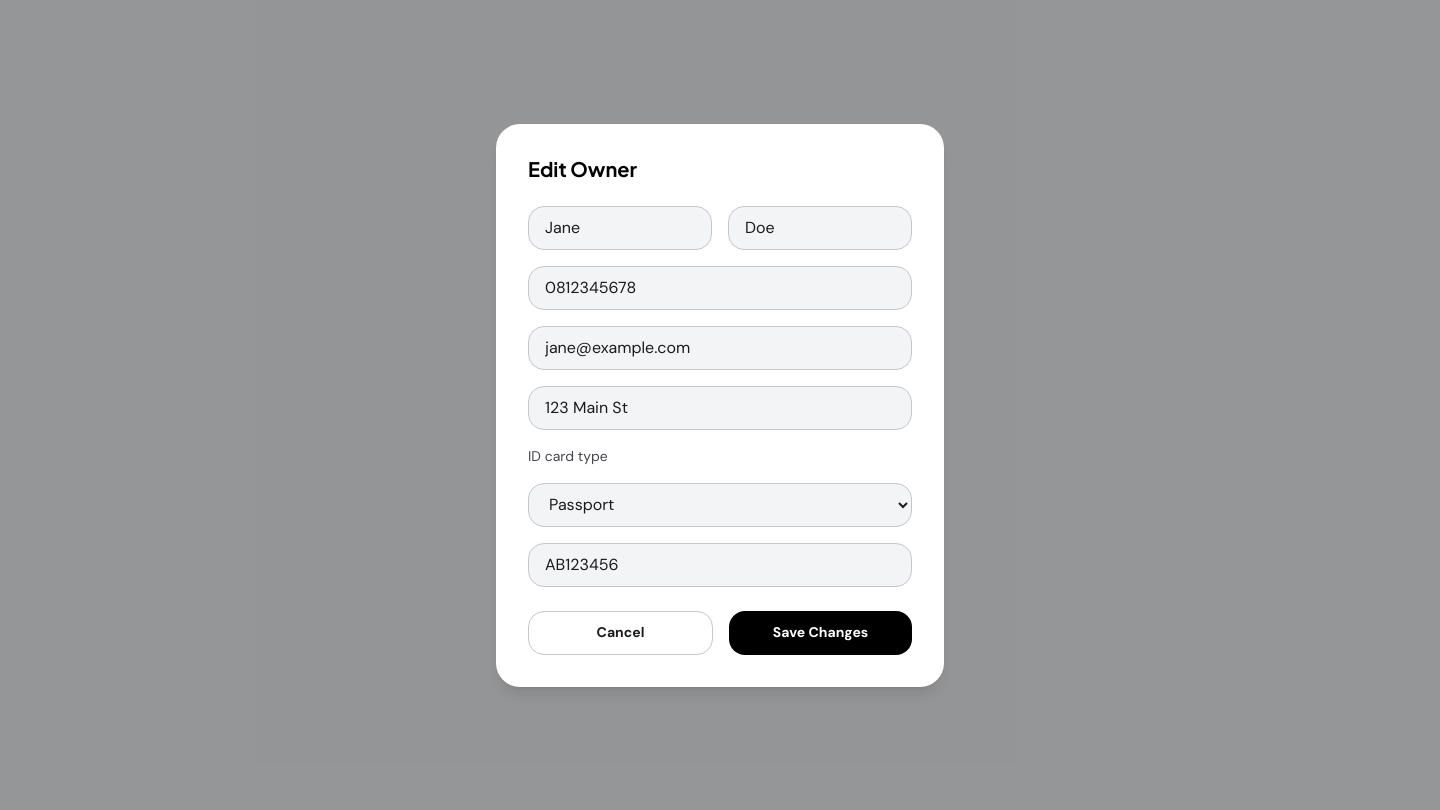
Test case: EditOwnerModal › shows an inline error on 409 conflict without closing
Click the button "Save Changes". click: (820, 632)
box: [729,610,912,654]
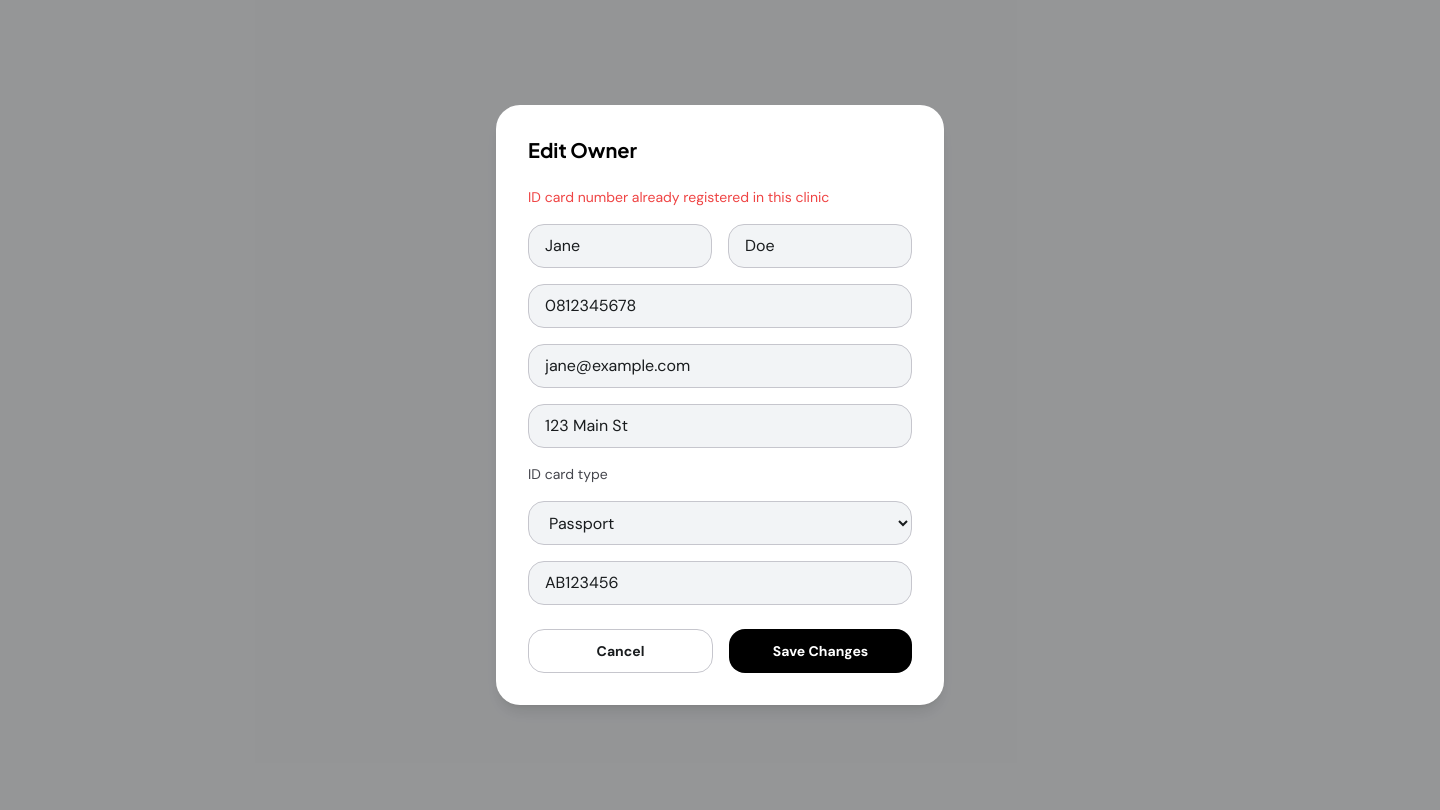
Expected: the text "ID card number already registered in this clinic" is shown, [528,188,829,206]
